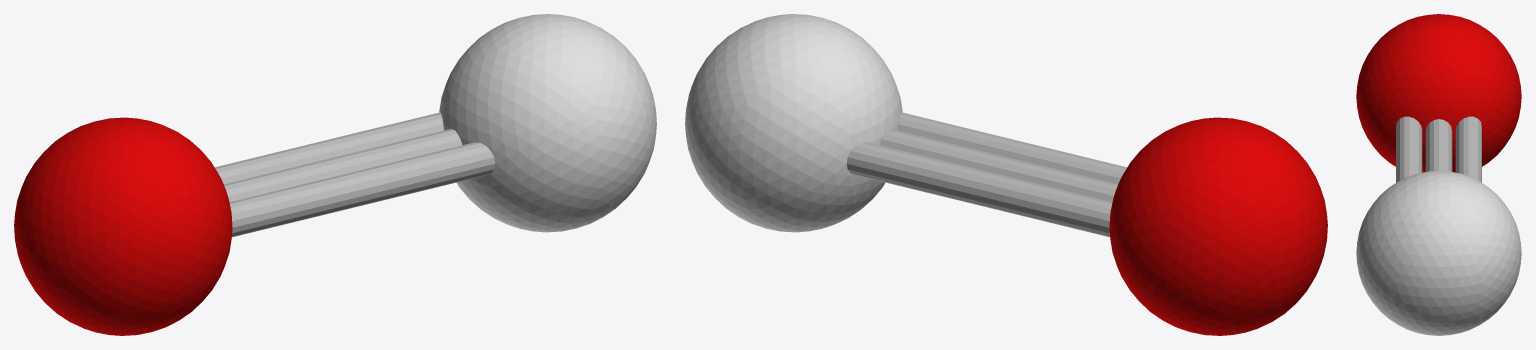
3 renders of one model, left to right at view 1: azimuth 30°, elevation 25°; view 2: azimuth 150°, elevation 25°; view 3: azimuth 270°, elevation 25°, orthographic. The views are drawn at different scales.
Visible parts, largest first — view 1: world; view 2: world; view 3: world.
Part boxes in pixels (box(x1,y1,x2,y2)): world: box(14, 14, 656, 335); world: box(685, 14, 1327, 335); world: box(1356, 14, 1521, 335).
Bounding box in the file's own units: 1.62 × 0.5 × 0.5.
